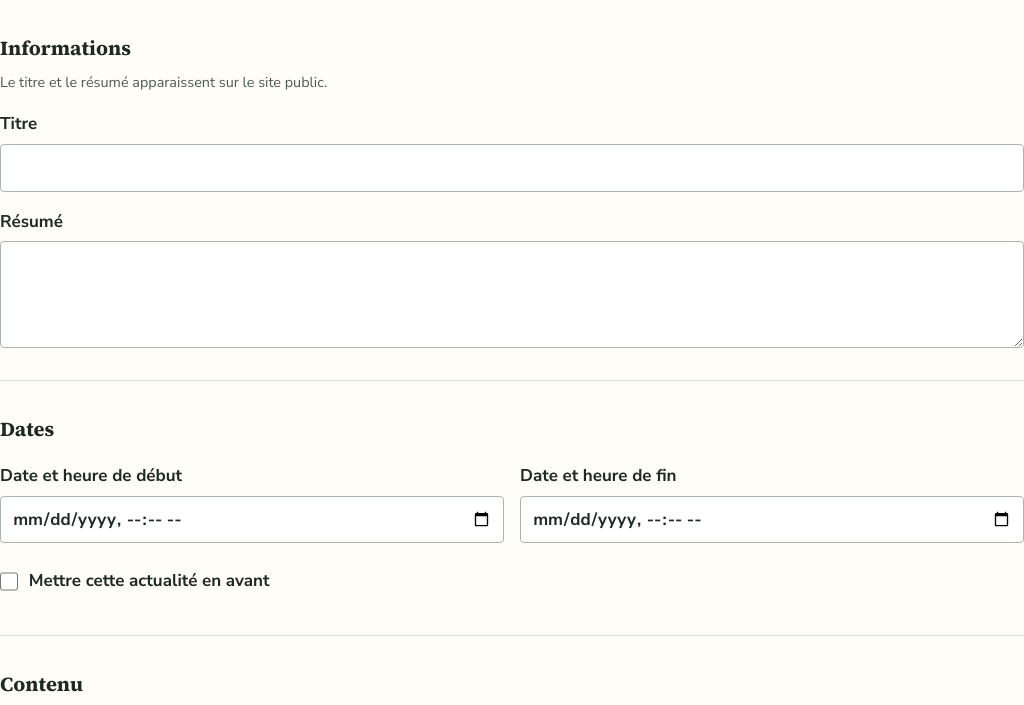
it: keeps a typed news title after a validation error
Type "Sortie au musée" into the field named "title". click: (512, 168)
box: [0,144,1023,192]
(page scrolled)
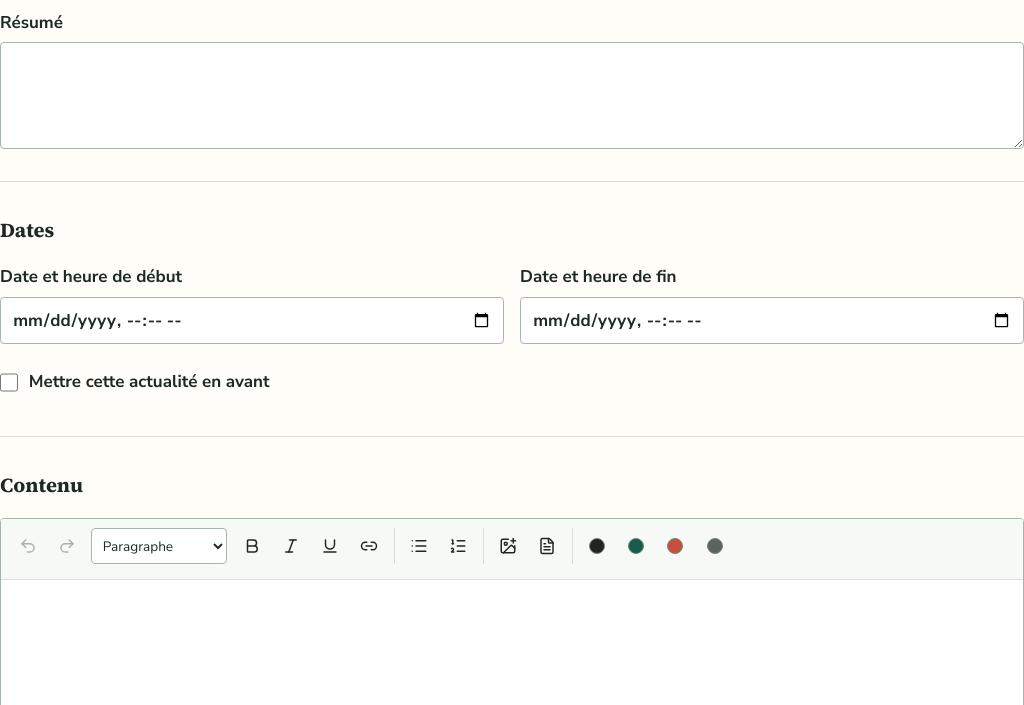
Submit the form
(page scrolled)
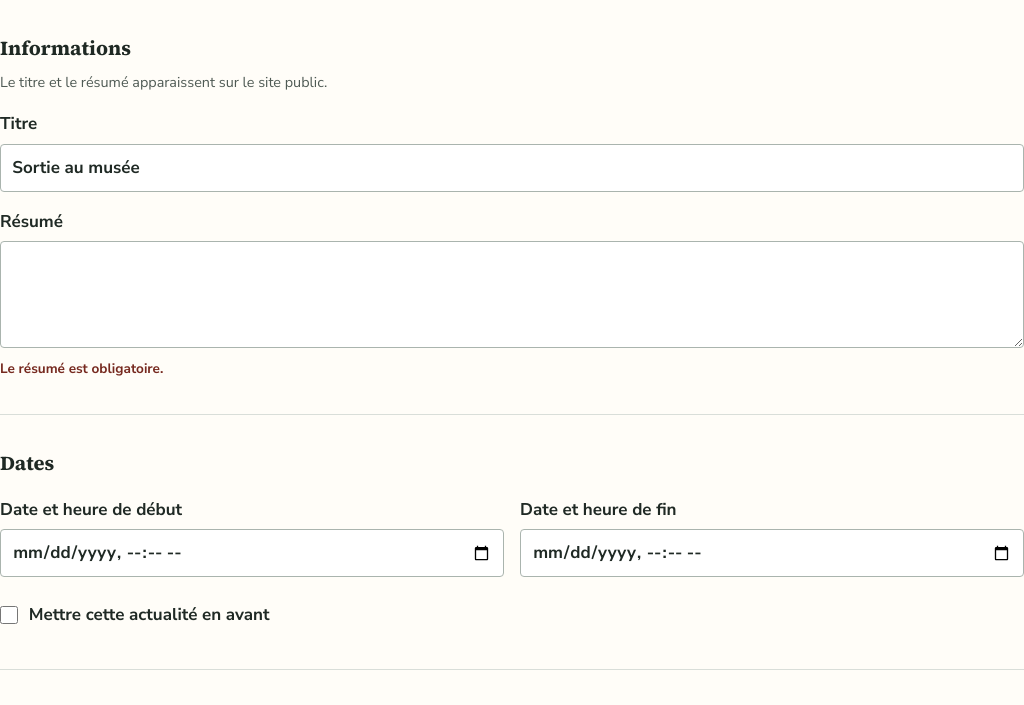
Check: the text "Le résumé est obligatoire." is shown, box [0,359,163,378]
